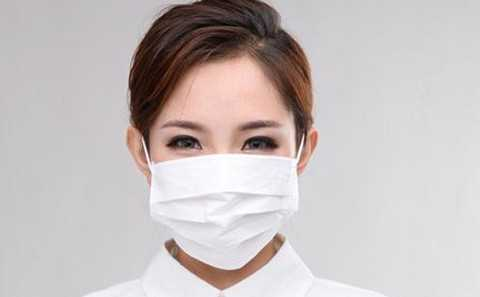face_mask: (149, 67, 297, 255)
